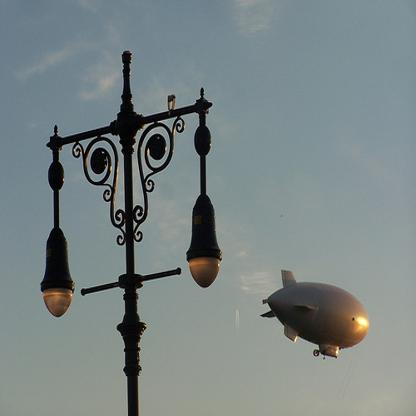Airship: (258, 264, 376, 363)
